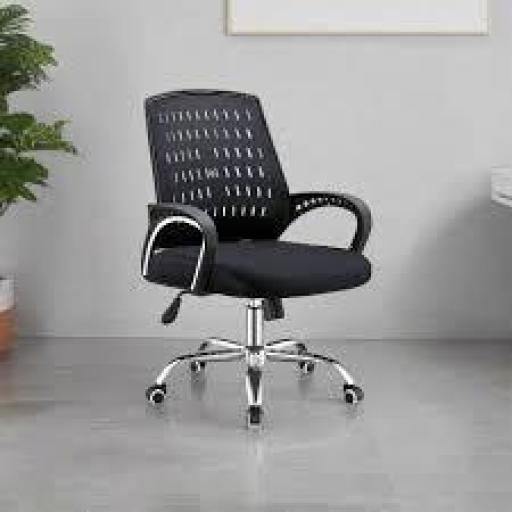chair: (138, 86, 379, 428)
